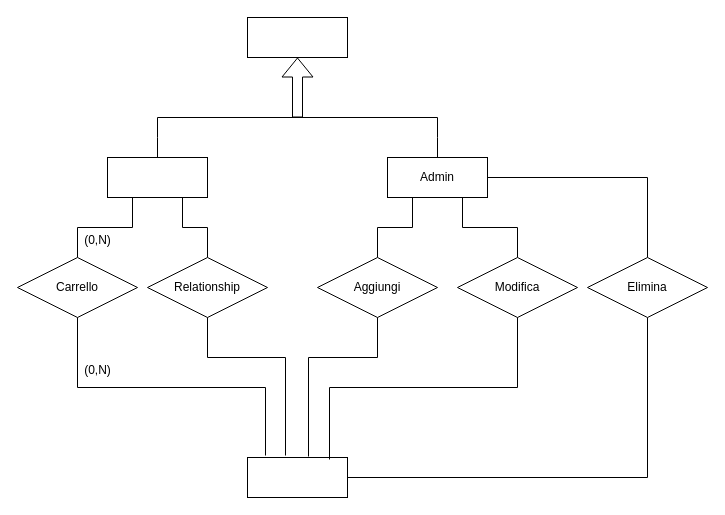
Image size: 725x515. Some labels were removed from this diagram. Each missing label, with the box of its shape:
Clienti: (106, 156, 208, 198)
Prodotti: (246, 456, 348, 498)
Utente: (246, 16, 348, 58)
